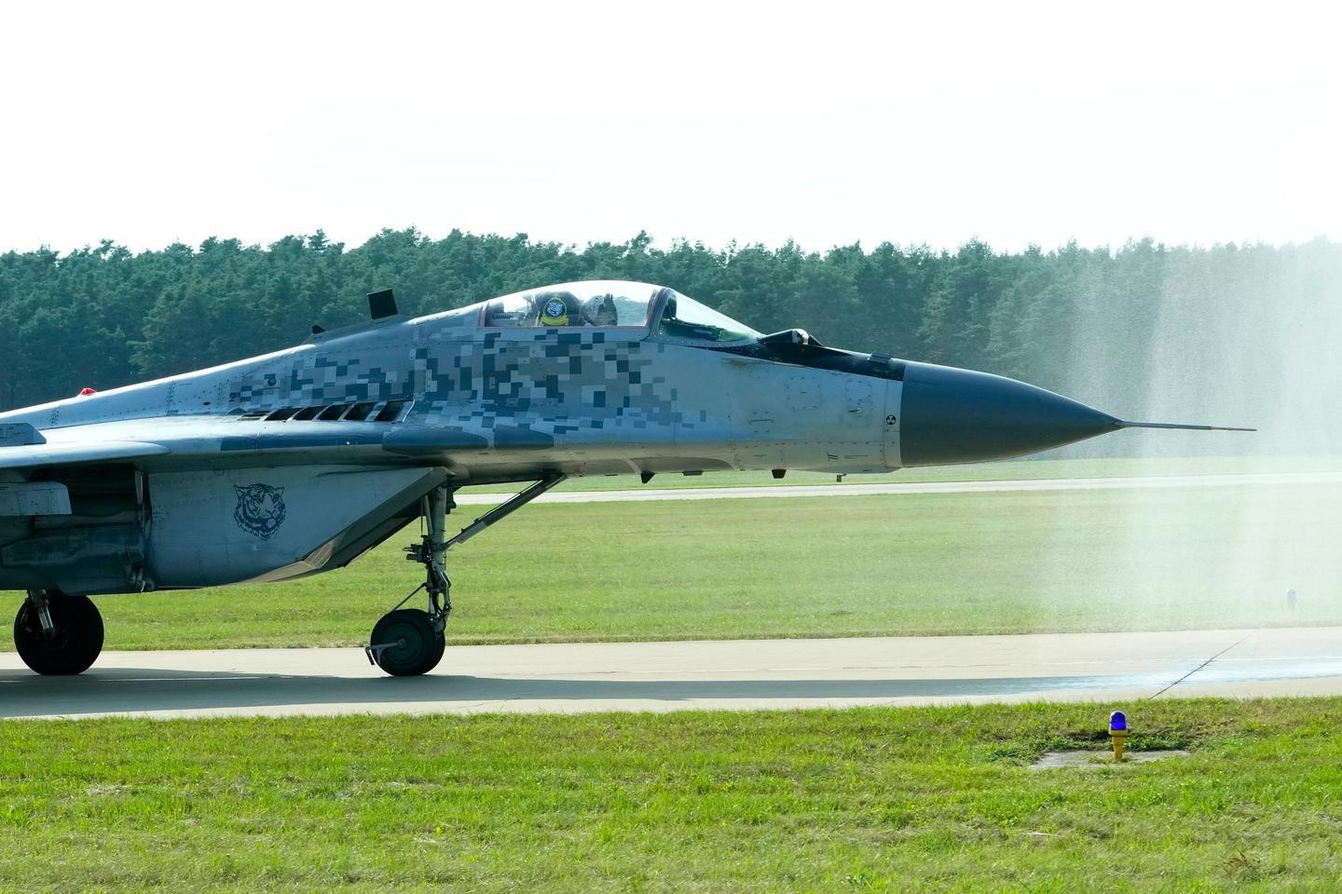aircraft: (0, 273, 1192, 684)
